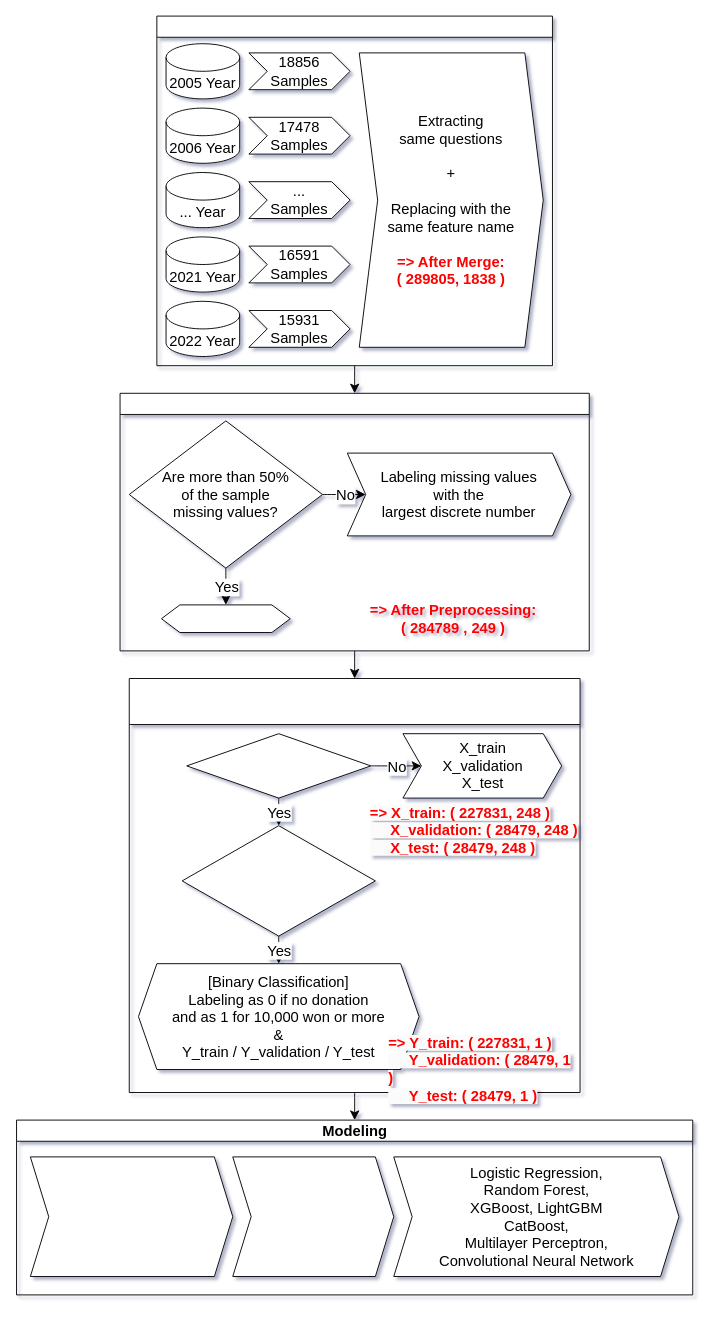
The diagram is 714 pixels wide and 1317 high, and some of its shapes have lost their labels. Each missing label, with the box of its shape:
Data Merge: (156, 15, 552, 366)
Data Splitting: Y_train, Y_validation, Y_test, X_train, X_validation, X_test: (128, 678, 580, 1092)
Delete features: (161, 604, 290, 632)
How much did you donate in the past year: (181, 825, 375, 936)
Is this feature Y?: (186, 733, 371, 798)
Min-Max scaling: (232, 1156, 394, 1276)
Minority oversampling or Majority undersampling: (29, 1156, 233, 1276)
Missing Value Preprocessing: (119, 392, 589, 651)
